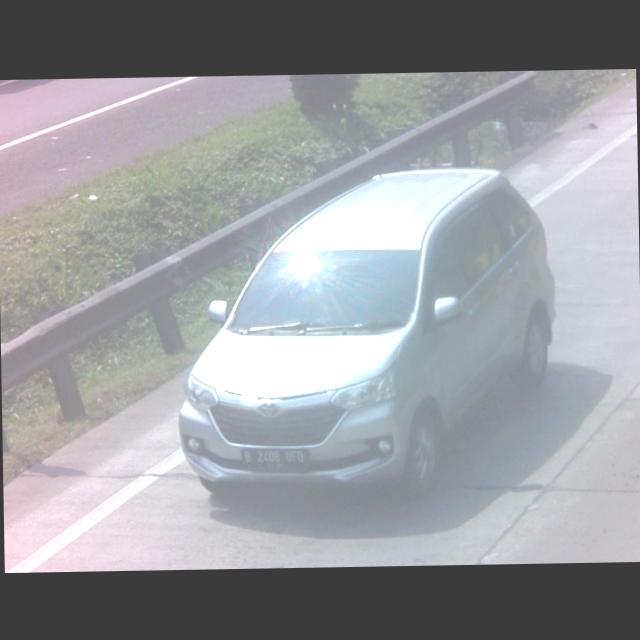plate: (239, 442, 308, 470)
